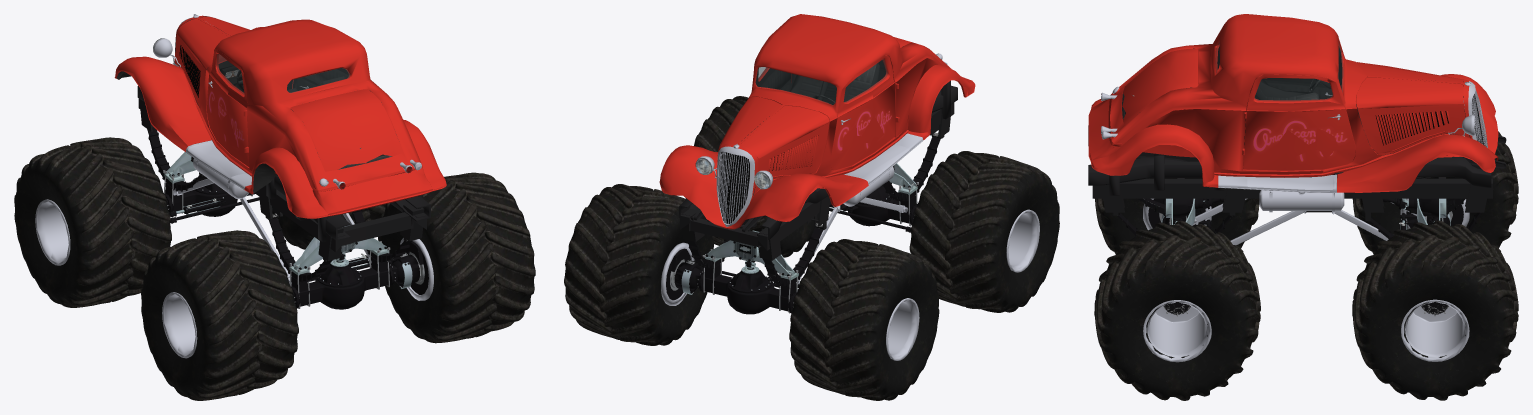
The model's file is monster.glb.
3 renders of one model, left to right at view 1: azimuth 30°, elevation 25°; view 2: azimuth 150°, elevation 25°; view 3: azimuth 270°, elevation 25°, orthographic. The views are drawn at different scales.
Visible parts, largest first — view 1: Body, Wheel_RL, Wheel_FL, Wheel_RR, Wheel_FR; view 2: Body, Wheel_FL, Wheel_RL, Wheel_FR, Wheel_RR; view 3: Body, Wheel_RR, Wheel_FR, Wheel_FL, Wheel_RL.
Boxes of the visible parts, x1,y1,x2,y2 form: Body: [114, 14, 446, 309]; Wheel_RL: [141, 230, 298, 400]; Wheel_FL: [14, 137, 171, 307]; Wheel_RR: [378, 172, 535, 343]; Wheel_FR: [272, 204, 385, 249]; Body: [659, 14, 975, 314]; Wheel_FL: [789, 239, 939, 400]; Wheel_RL: [909, 151, 1059, 312]; Wheel_FR: [564, 184, 713, 345]; Wheel_RR: [685, 96, 818, 257]; Body: [1088, 14, 1506, 245]; Wheel_RR: [1094, 220, 1260, 400]; Wheel_FR: [1352, 220, 1518, 400]; Wheel_FL: [1352, 131, 1518, 253]; Wheel_RL: [1095, 157, 1259, 254].
Bounding box in the file's own units: 3.9 × 3.26 × 4.35.
10 materials, 7 textured.
